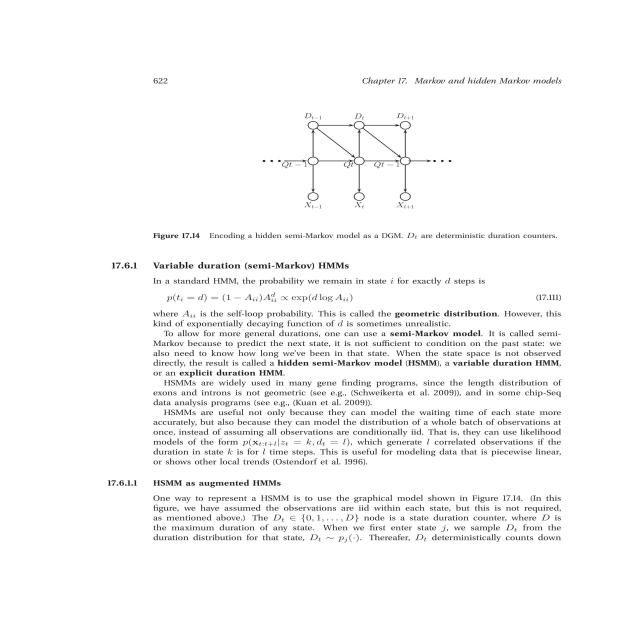diagram: (113, 105, 566, 253)
